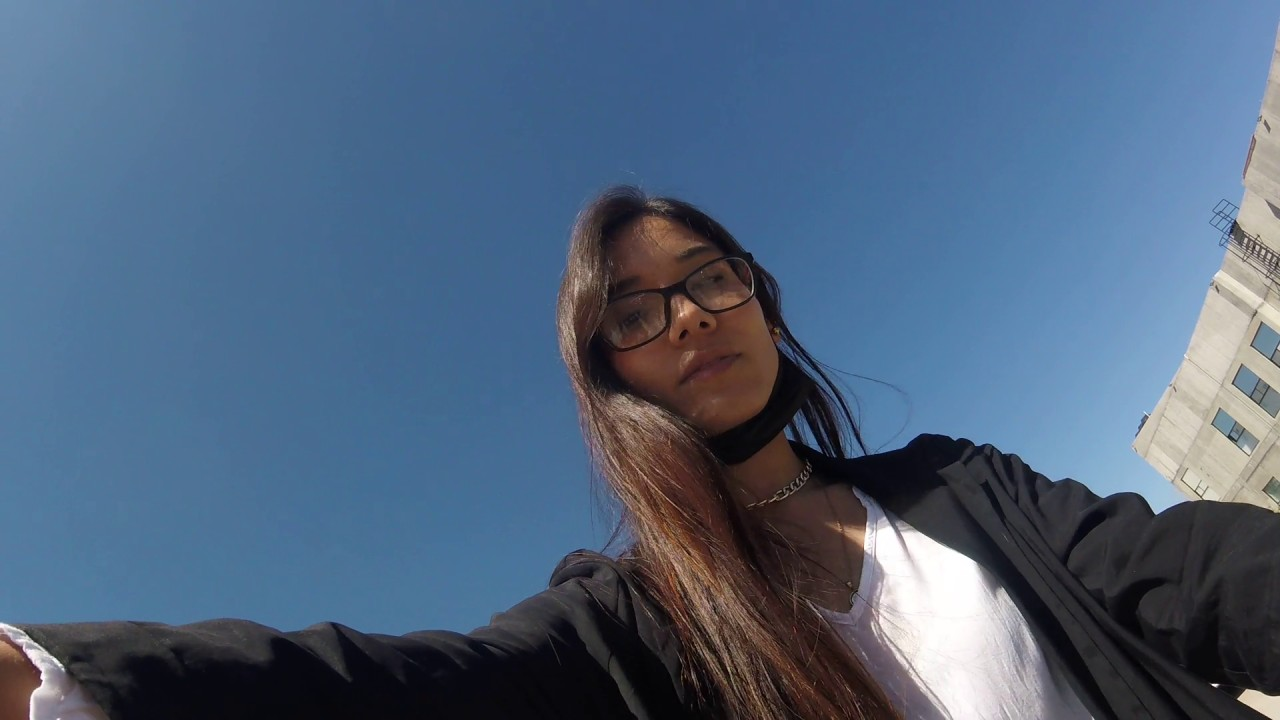Without Helmet: (550, 167, 778, 456)
